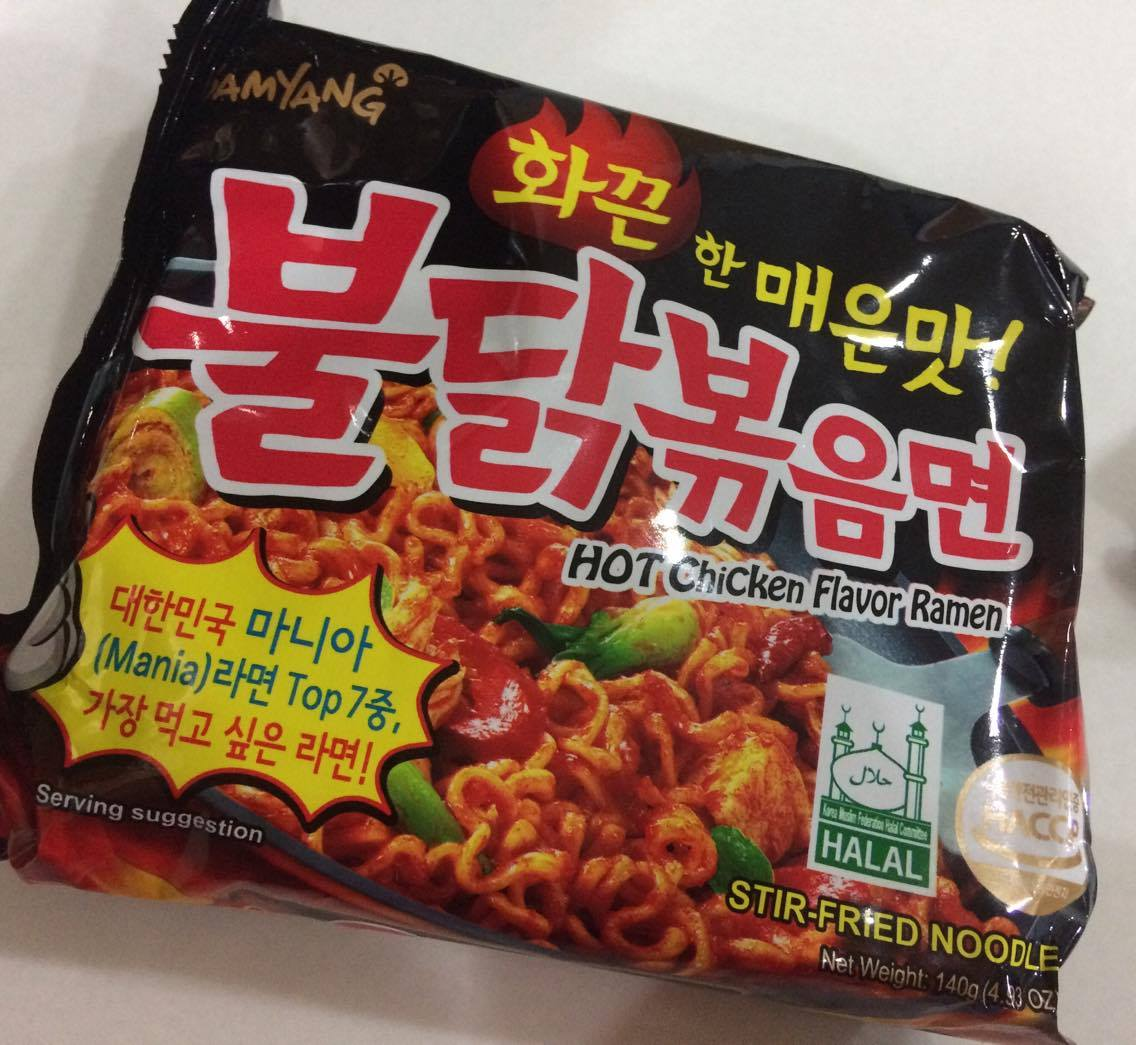Snack: (1, 1, 1136, 1045)
